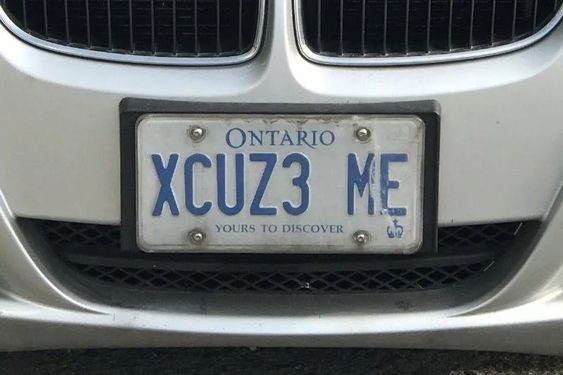licence: (101, 87, 451, 263)
